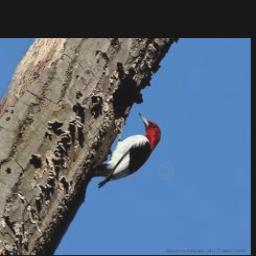Woodpecker: (83, 108, 170, 193)
